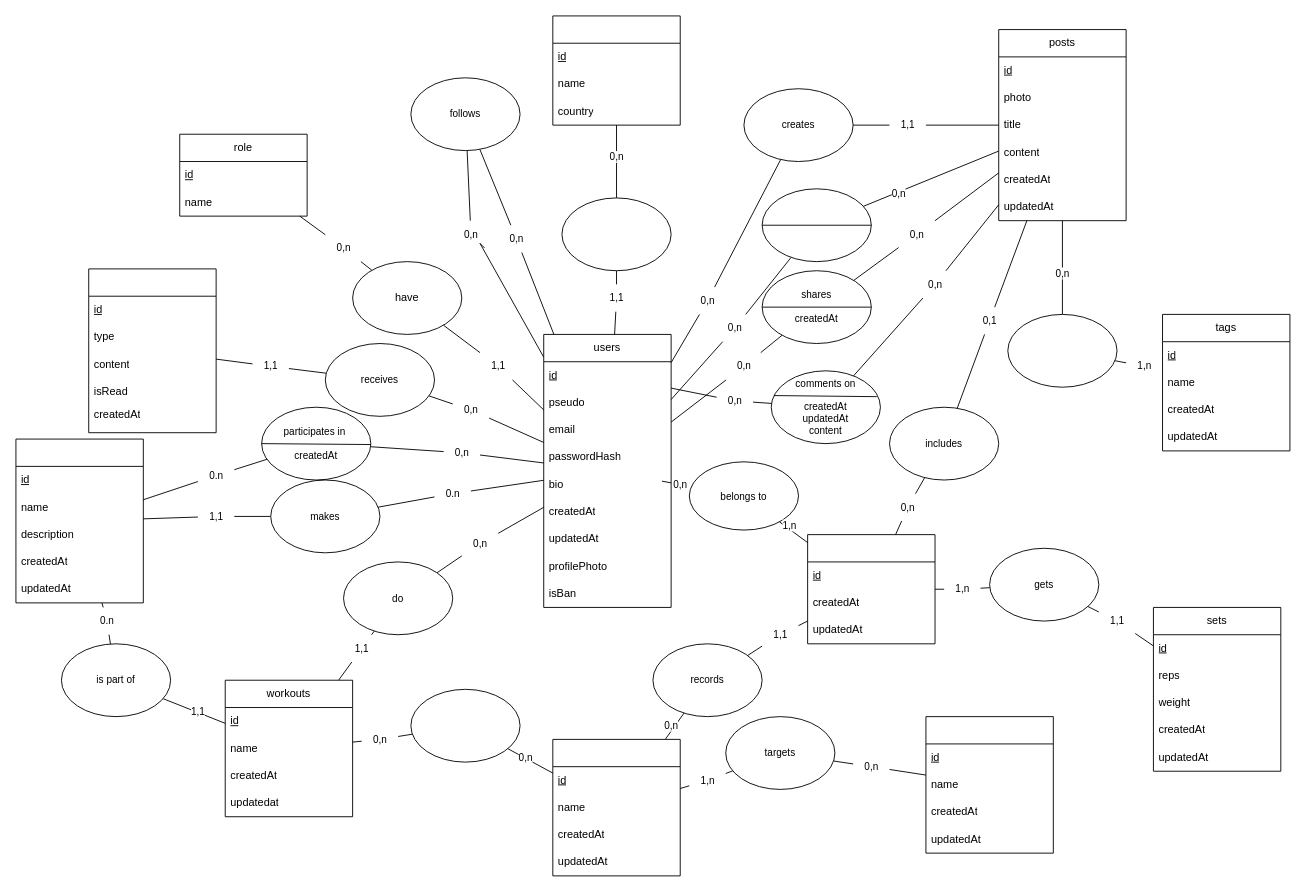
This 1306x892 diagram has some shape labels left out. The box of each missing label's shape, as (x1, y1, x2, y2) in pixels:
city: (552, 15, 680, 125)
contains: (410, 688, 520, 762)
exercice_results: (807, 534, 935, 644)
exercices: (552, 738, 680, 876)
has: (1007, 313, 1117, 387)
likes createdAt: (761, 188, 871, 262)
lives in: (561, 197, 671, 271)
muscle_groups: (925, 716, 1053, 853)
notifications: (88, 268, 216, 433)
programs: (15, 438, 143, 603)
